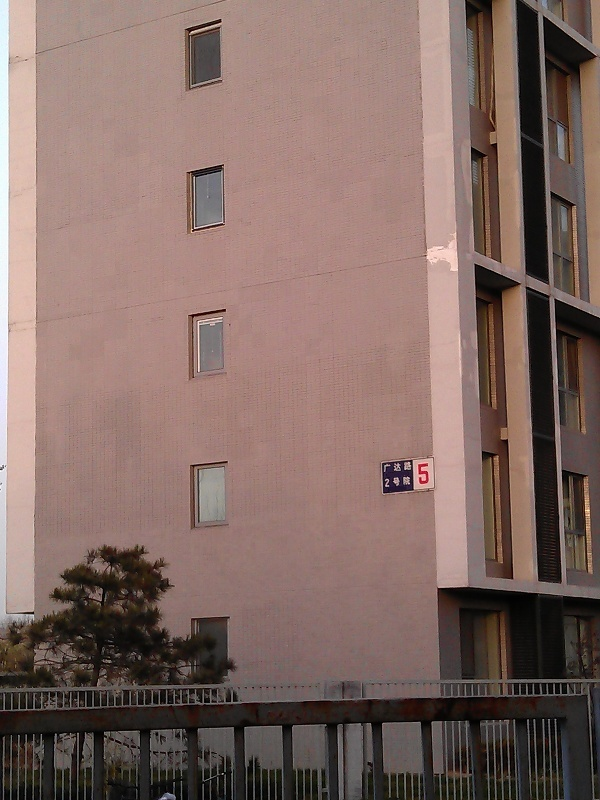text: (418, 463, 432, 486), (385, 461, 400, 474), (385, 476, 400, 488), (401, 461, 413, 474), (401, 476, 412, 488), (383, 461, 384, 474)
